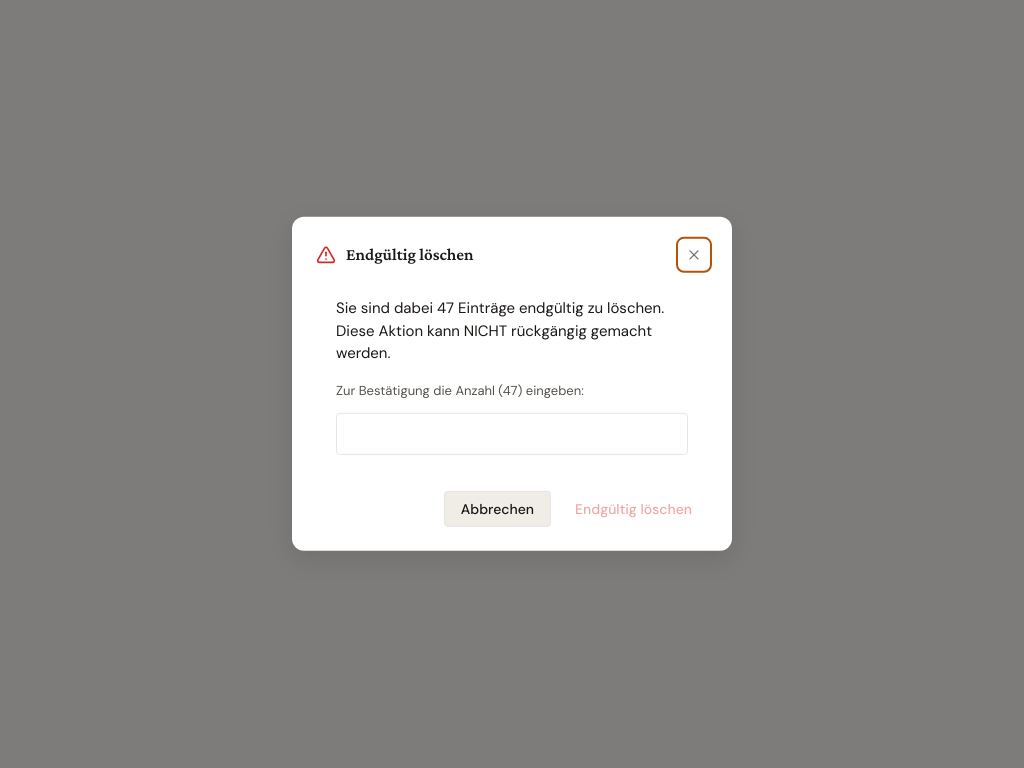
Test: TypeToConfirmDialog › typing a wrong number shows error + keeps button disabled
In the field with test id "type-to-confirm-input": (512,434) [336, 413, 688, 455], type "48"
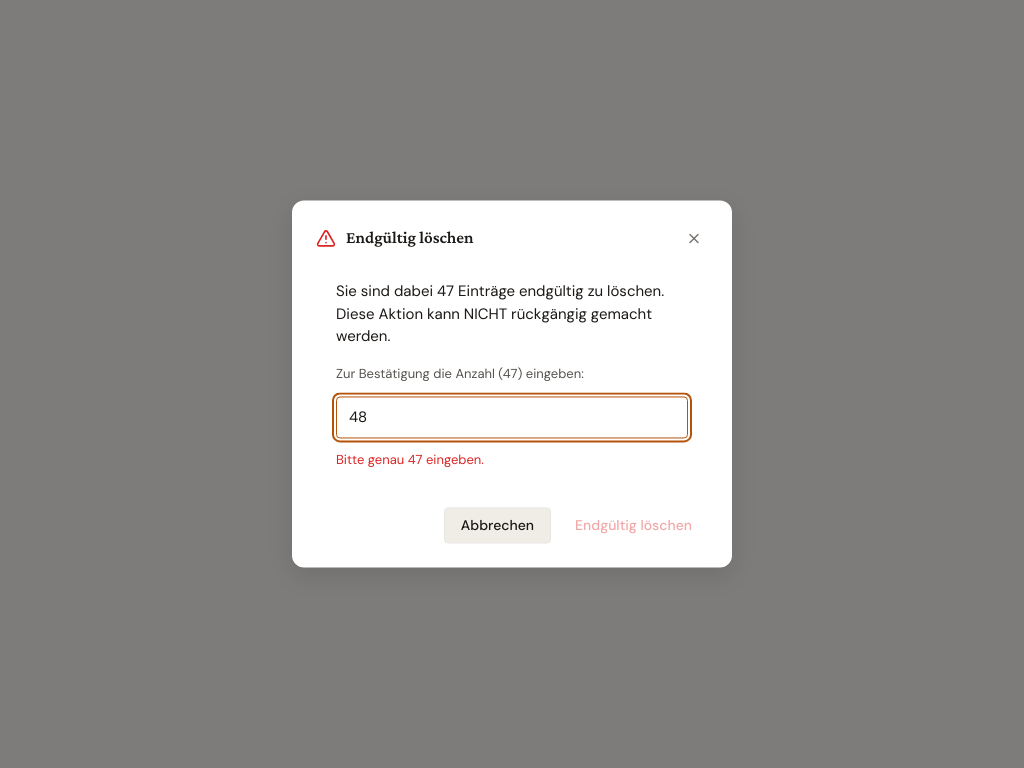
expect the button with test id "type-to-confirm-confirm" is disabled: met, box [559, 508, 708, 544]
expect the message "Bitte genau 47 eingeben." is shown: met, box [336, 452, 484, 469]
